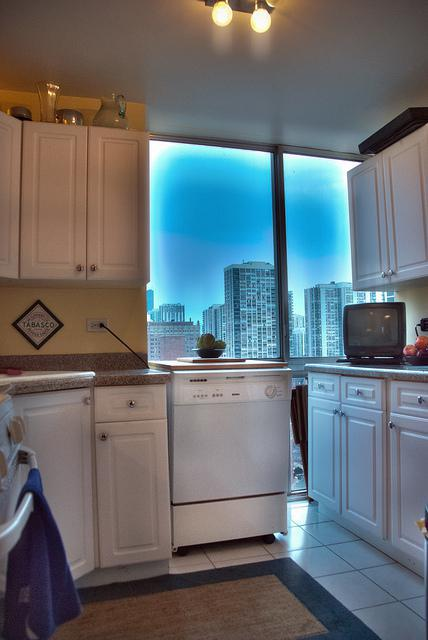tv: (332, 295, 423, 373)
